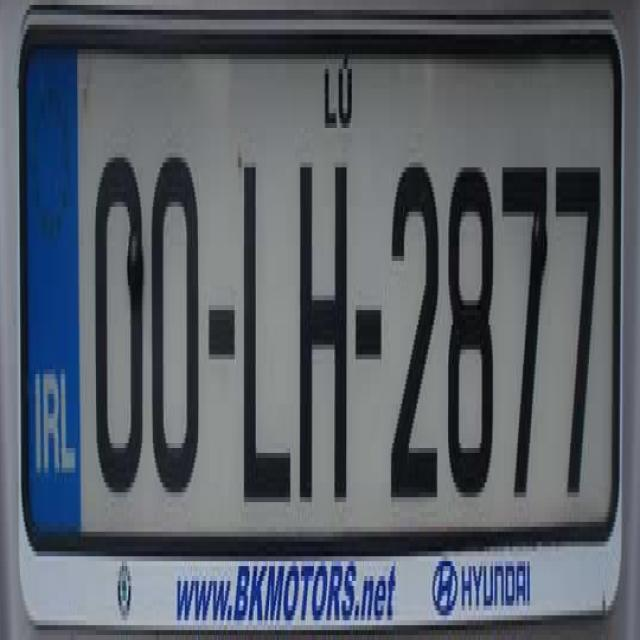EU: (14, 18, 624, 619)
Irlande: (22, 25, 81, 555)
